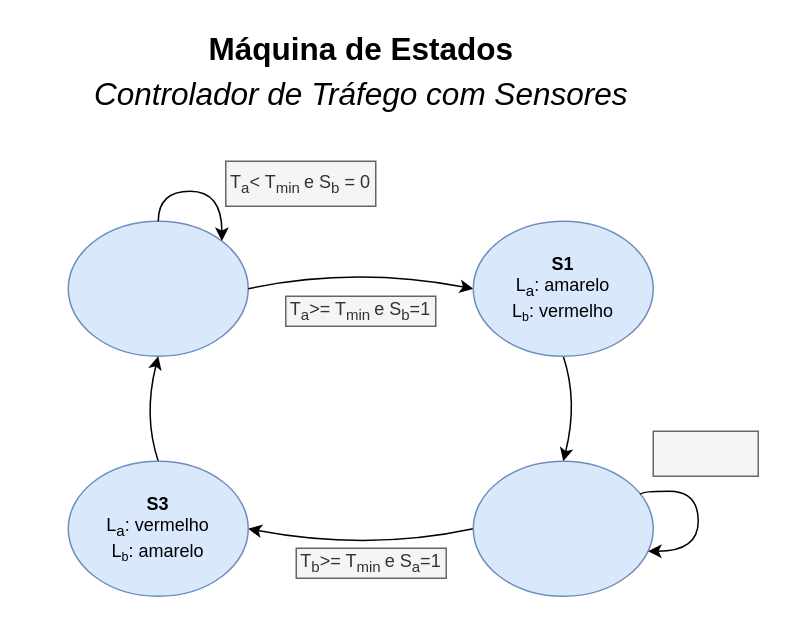
The diagram is 785 pixels wide and 623 high, and some of its shapes have lost their labels. Here are the shapes that lost their labels. From the top down, the box of each, then its label:
(67, 220, 248, 356): S0 L a : verde L b : vermelho
(652, 430, 758, 476): T b < T min e S a = 0
(472, 460, 653, 596): S2 L a : vermelho L b : verde
